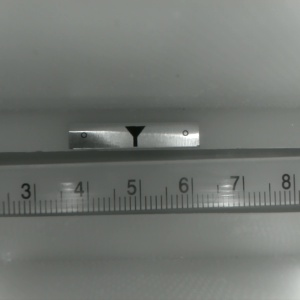3: (20, 184, 31, 199)
4: (72, 182, 83, 196)
5: (126, 179, 136, 195)
6: (178, 177, 188, 193)
7: (229, 176, 239, 193)
8: (281, 173, 290, 189)
finger: (124, 126, 145, 147)
